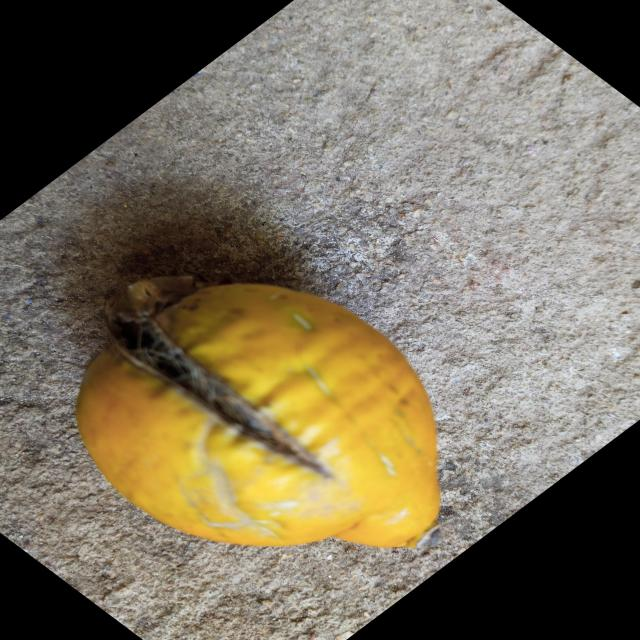damaged: (77, 276, 439, 548)
